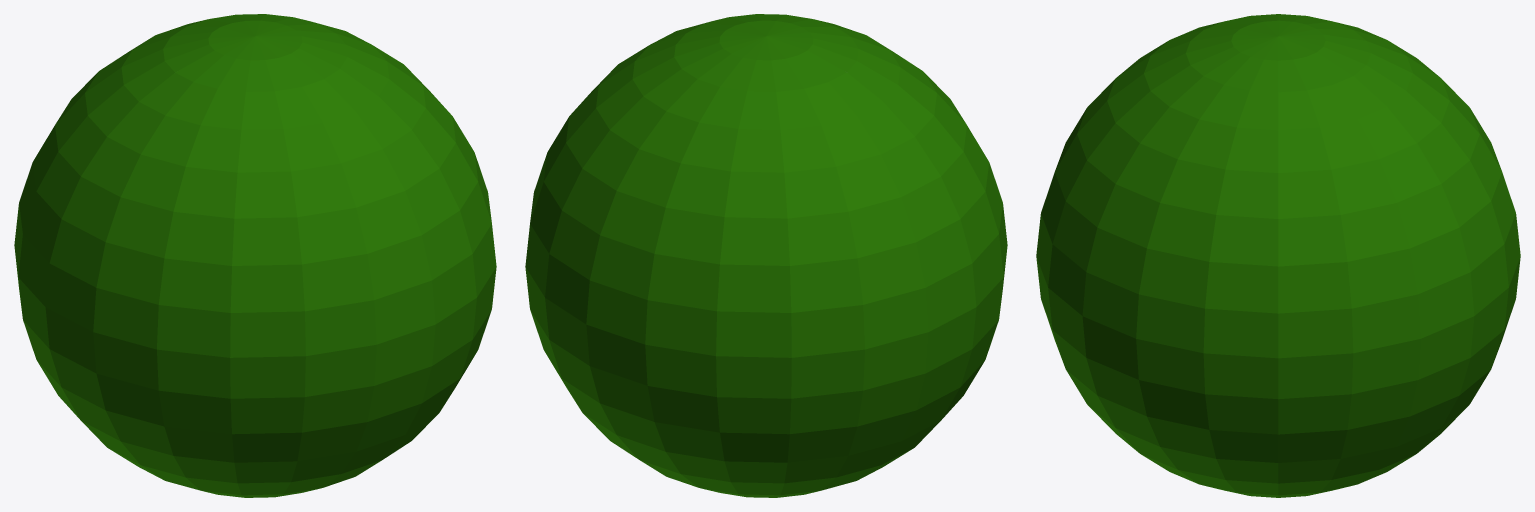
Rendered from SM_powerup_spring.fbx.
3 renders of one model, left to right at view 1: azimuth 30°, elevation 25°; view 2: azimuth 150°, elevation 25°; view 3: azimuth 270°, elevation 25°, orthographic.
Parts seen in each view (by area): view 1: SM_powerup_spring; view 2: SM_powerup_spring; view 3: SM_powerup_spring.
Part boxes in pixels (left/top/right/bottom): SM_powerup_spring: left=14, top=14, right=496, bottom=497; SM_powerup_spring: left=525, top=14, right=1007, bottom=497; SM_powerup_spring: left=1036, top=14, right=1520, bottom=497.
Bounding box in the file's own units: 200 × 200 × 200.
